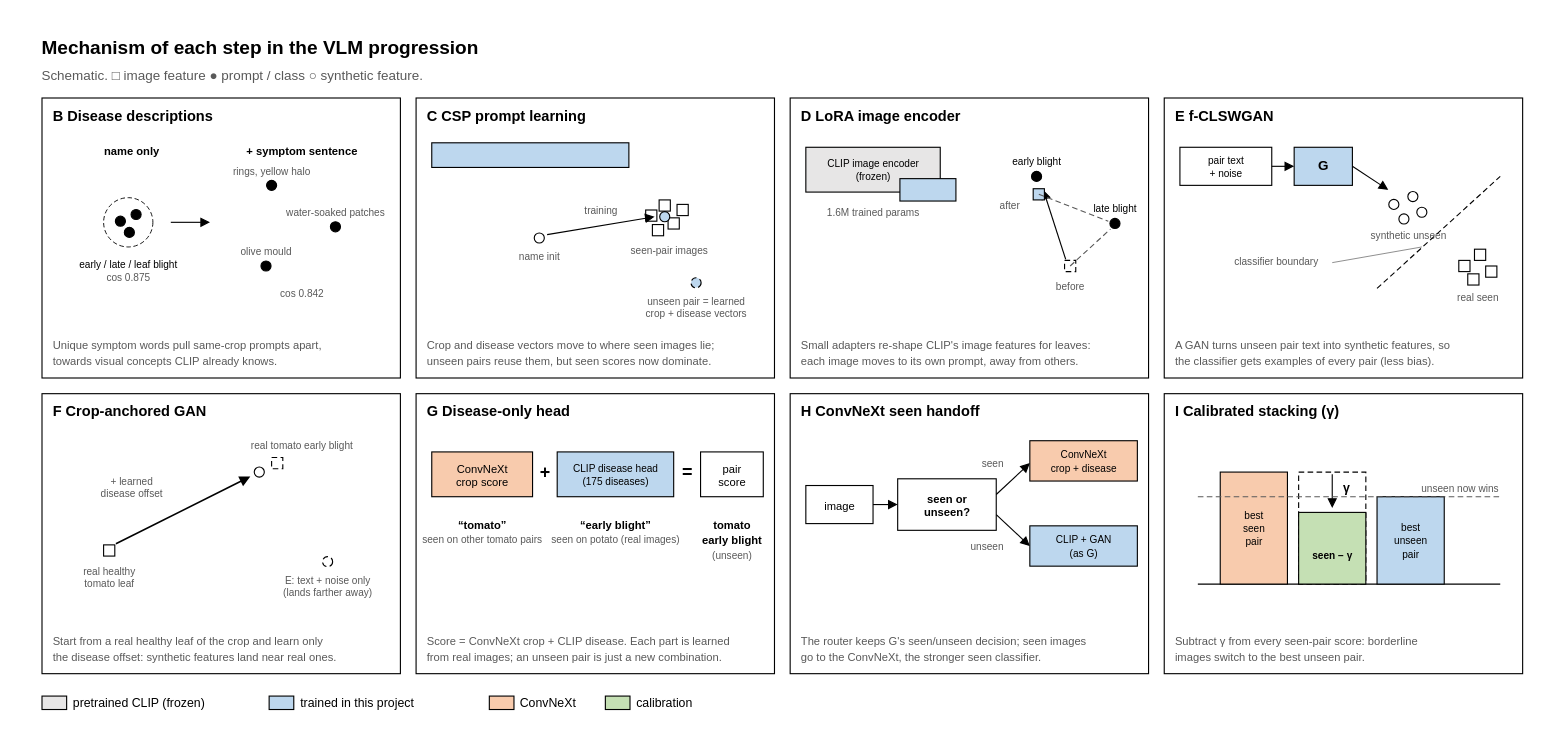
This 1564x755 diagram has some shape labels left out. Here are the shapes that lost their labels. From the top down, the centre of each, then its label:
[530,154]: “a photo of [crop] leaves with [disease]”
[927,189]: + LoRA
